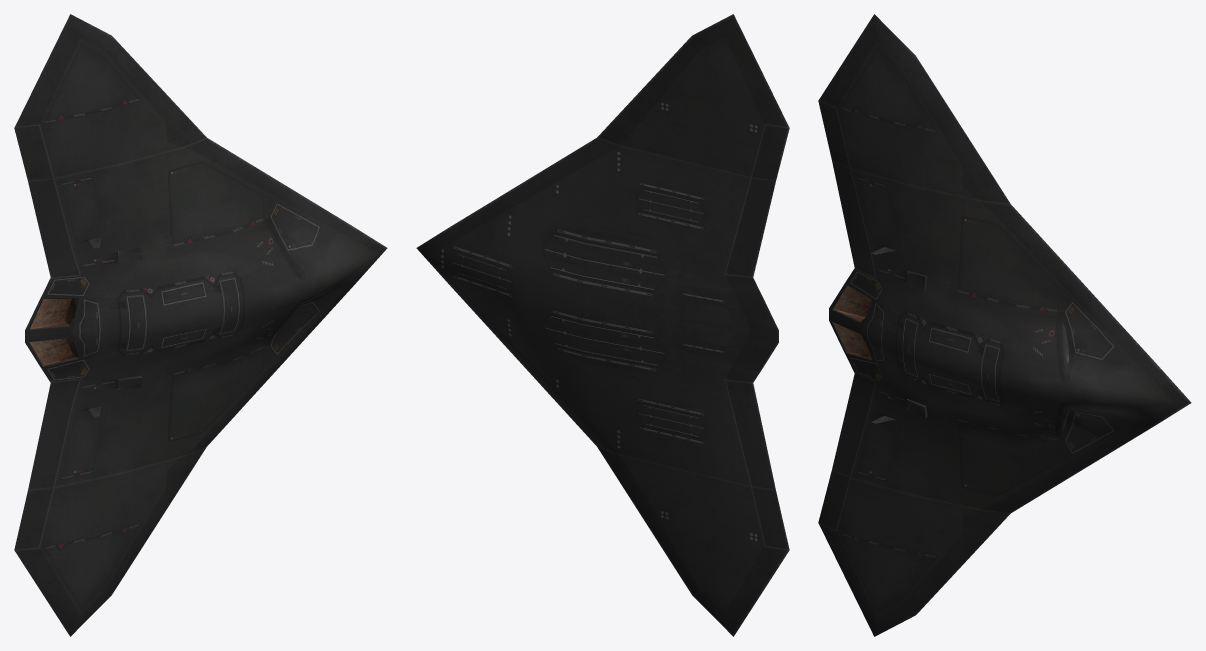
Rendered from veh_t6_drone_pegasus_mp_LOD2.obj.
3 views of the same model, side by side, from view 1: azimuth 30°, elevation 25°; view 2: azimuth 150°, elevation 25°; view 3: azimuth 330°, elevation 25° (orthographic).
Parts seen in each view (by area): view 1: mtl_veh_t6_pegasus_body; view 2: mtl_veh_t6_pegasus_body; view 3: mtl_veh_t6_pegasus_body.
Boxes of the visible parts, x1,y1,x2,y2 form: mtl_veh_t6_pegasus_body: [14, 14, 387, 636]; mtl_veh_t6_pegasus_body: [416, 14, 789, 636]; mtl_veh_t6_pegasus_body: [818, 14, 1191, 636].
Bounding box in the file's own units: 711 × 1134 × 125.
